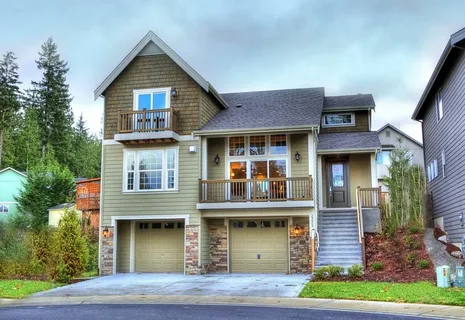private_hause: (97, 60, 376, 262)
